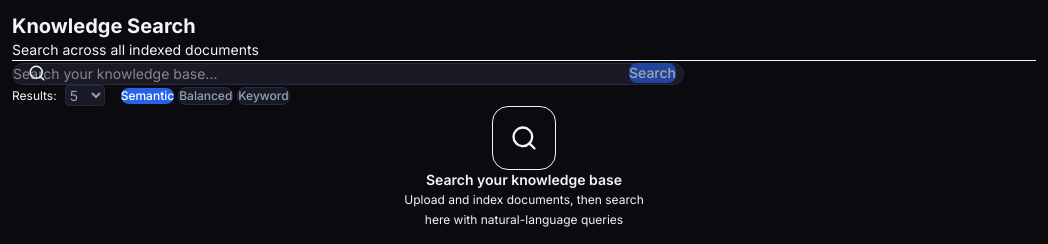
Scenario: SearchPage › displays search results
The image size is (1048, 244).
Type "test" into the field with placeholder "Search your knowledge base...".
click(348, 74); type("test")  # box 12,63 -> 684,85
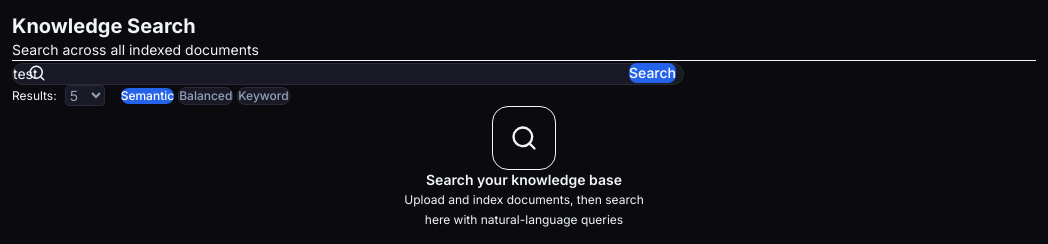
Click the button "Search".
click(652, 73)  # box 629,63 -> 676,83
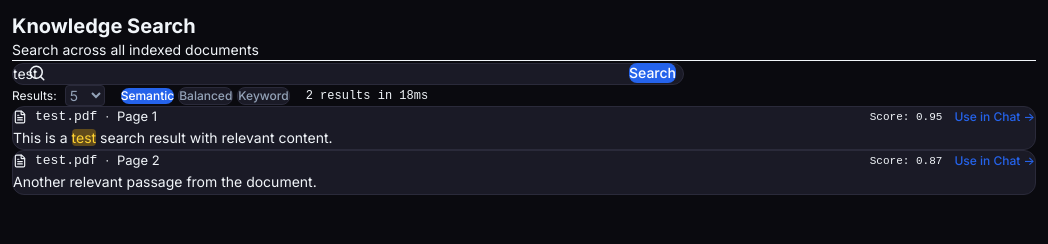
Now the text "This is a test search result with relevant content." is shown, box 13,128 -> 333,146
Now the text "Another relevant passage from the document." is shown, box 13,173 -> 317,190
